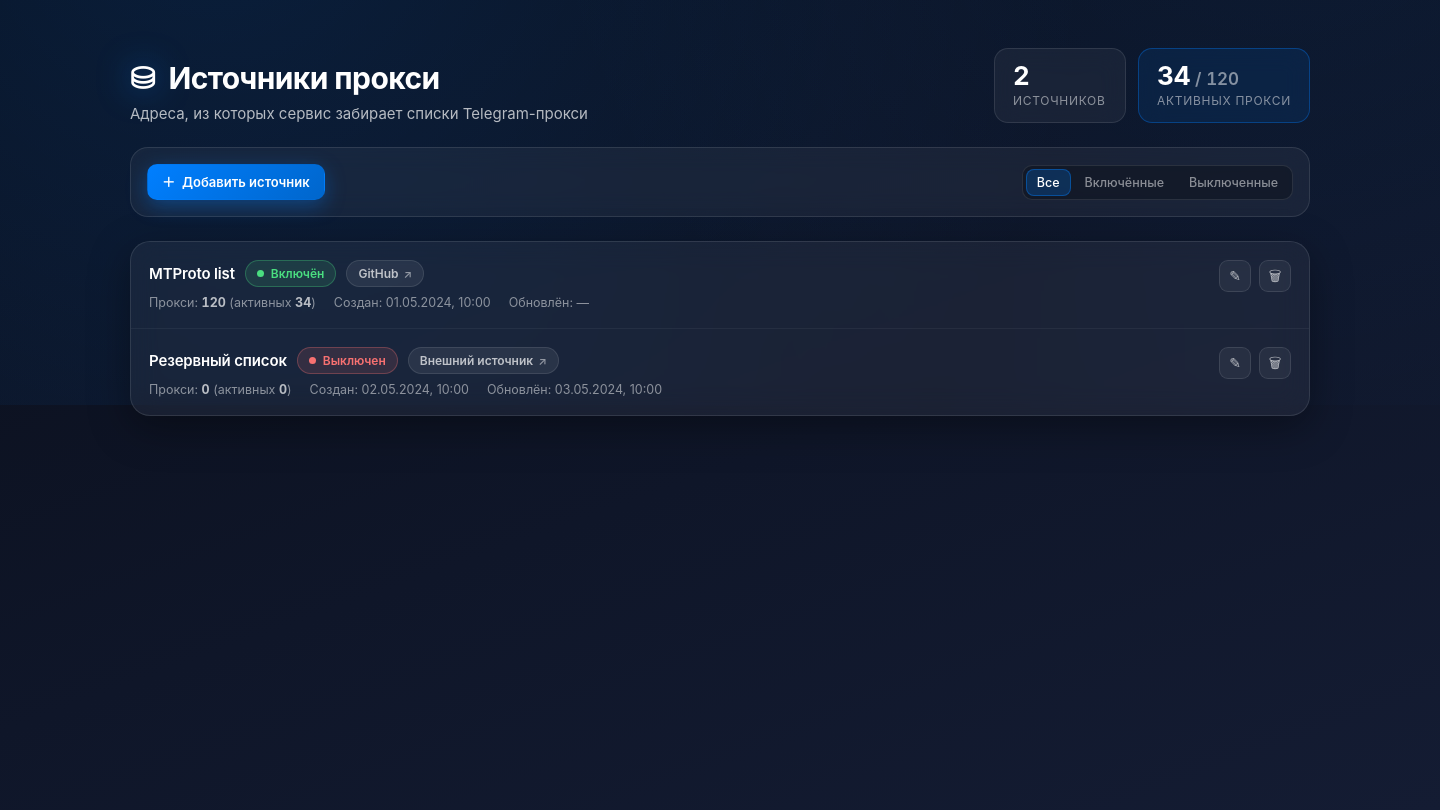
it: добавление источника › ошибку бекенда показывает тостом и модалку не закрывает
Expected: the text "MTProto list" is shown, [149, 264, 235, 283]
Click the button titled "Добавить источник" at {"x": 236, "y": 182}, box [147, 164, 325, 200]
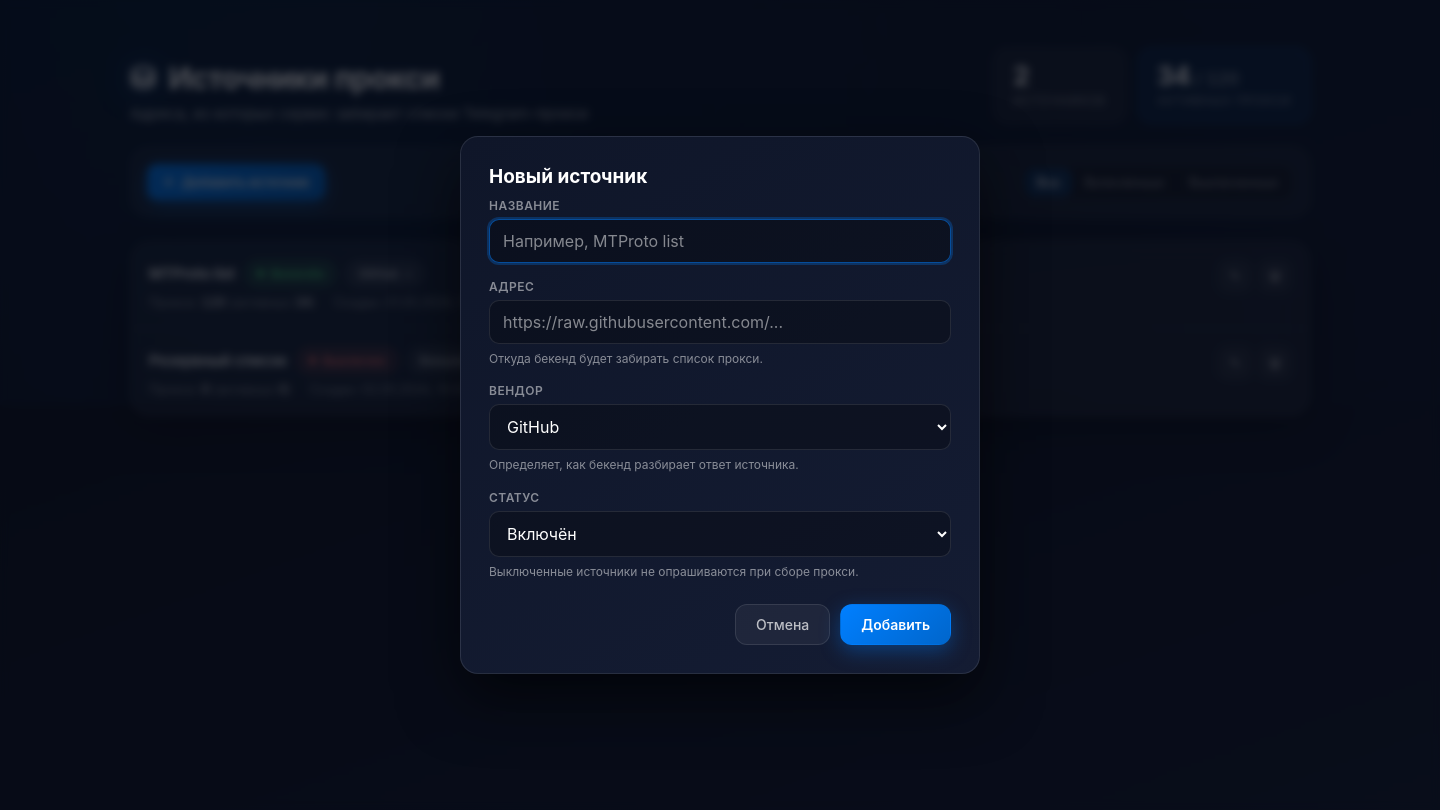
Type "Источник" into the field labelled "Название" at {"x": 720, "y": 241}, box [489, 219, 951, 263]
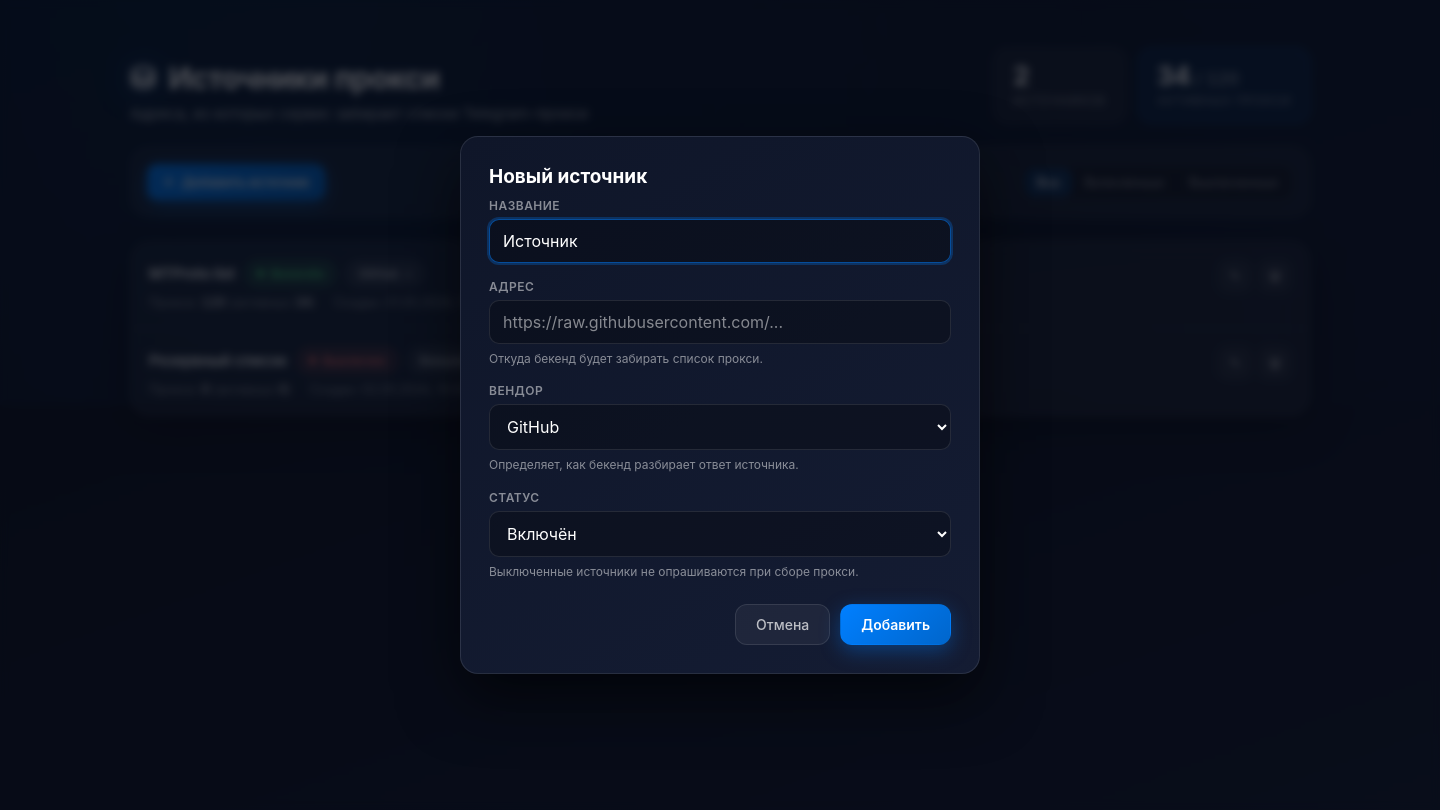
Type "https://example.com/new.txt" into the field labelled "Адрес" at {"x": 720, "y": 322}, box [489, 300, 951, 344]
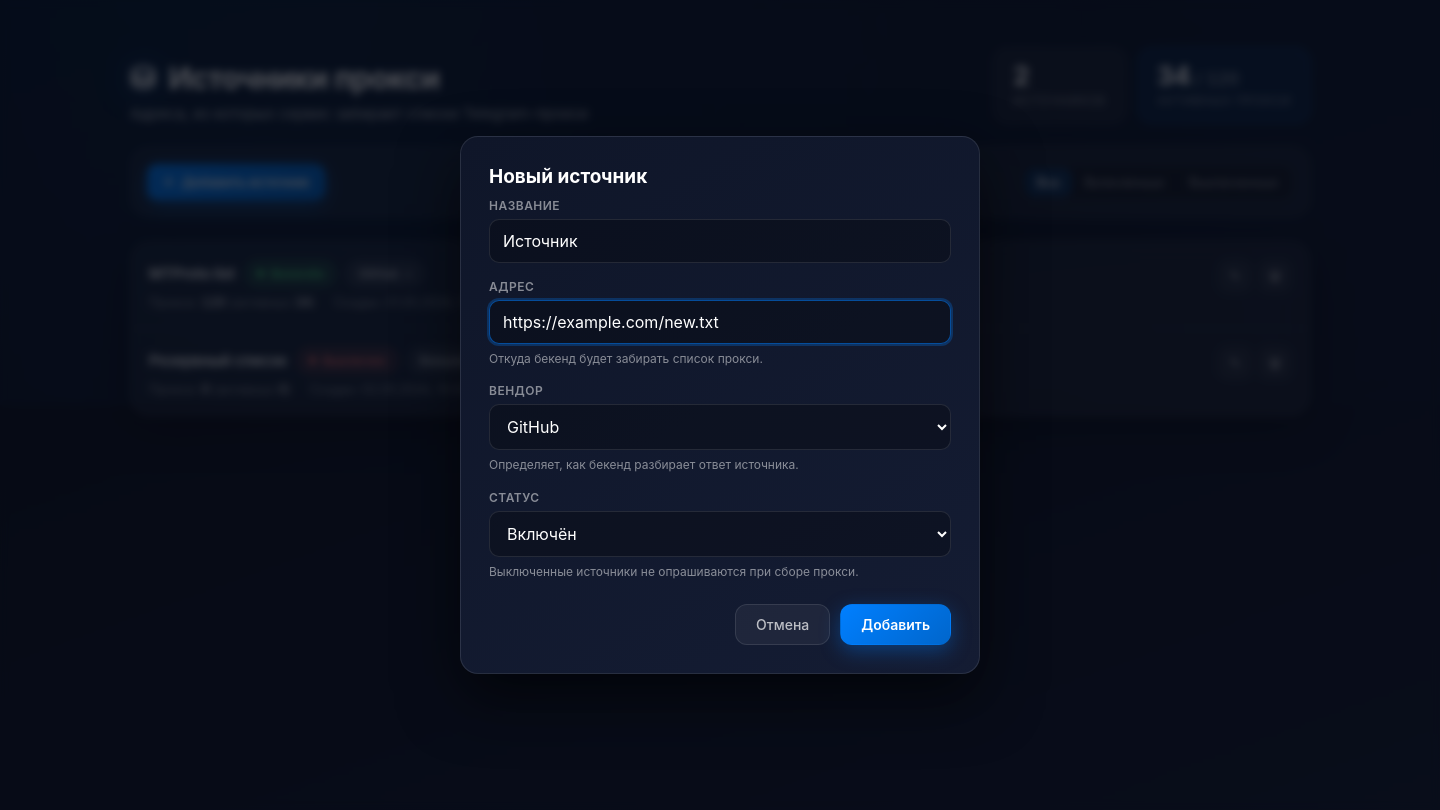
Click the button "Добавить" at {"x": 896, "y": 625}, box [840, 604, 951, 645]
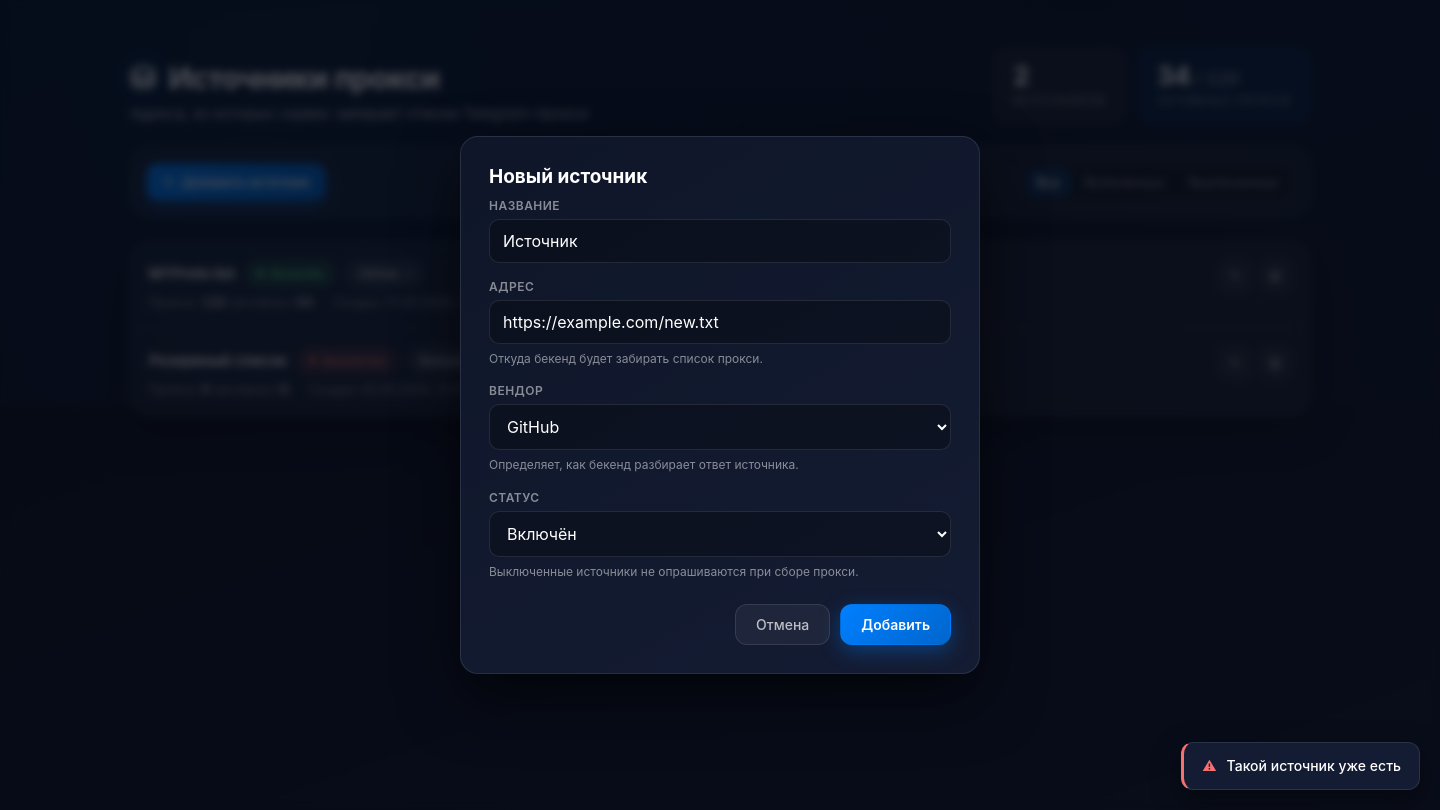
Expected: the dialog is shown, [460, 136, 980, 674]
Expected: the text "Такой источник уже есть" is shown, [1227, 756, 1401, 776]
